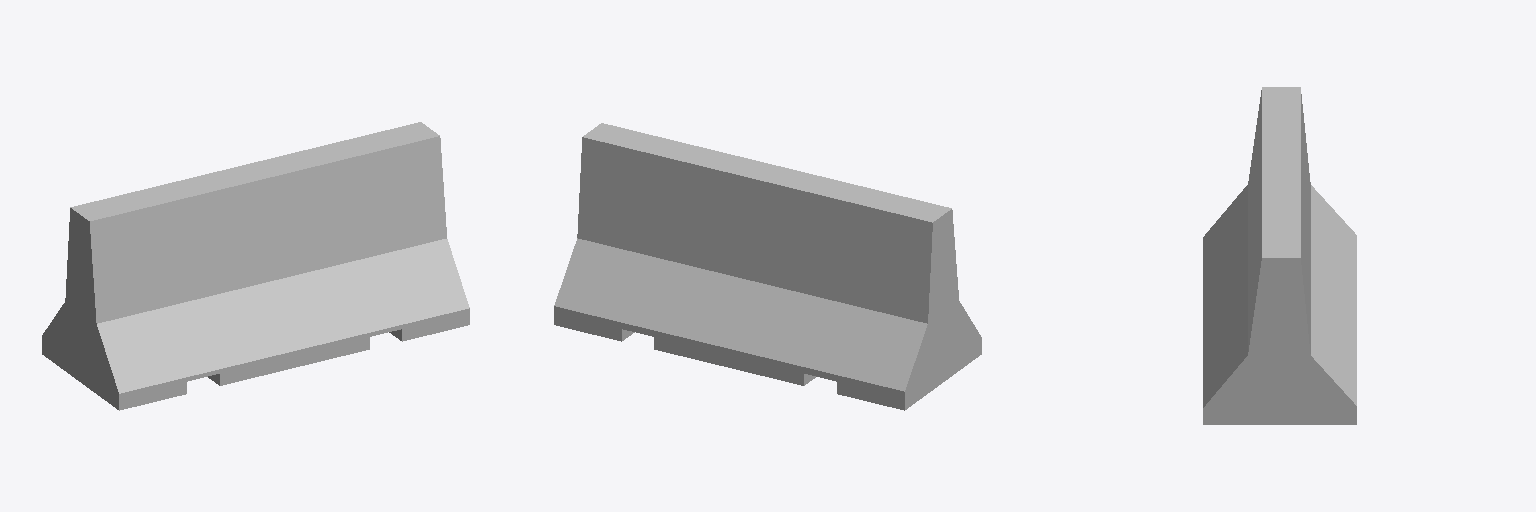
Rendered from Road_block_v1.obj.
3 views of the same model, side by side, from view 1: azimuth 30°, elevation 25°; view 2: azimuth 150°, elevation 25°; view 3: azimuth 270°, elevation 25° (orthographic).
Parts seen in each view (by area): view 1: Road_block_v1_0; view 2: Road_block_v1_0; view 3: Road_block_v1_0.
Boxes of the visible parts, <box> form: Road_block_v1_0: <box>42,122,469,410</box>; Road_block_v1_0: <box>554,123,981,410</box>; Road_block_v1_0: <box>1203,87,1356,424</box>.
Bounding box in the file's own units: 2.35 × 1.07 × 0.8929.